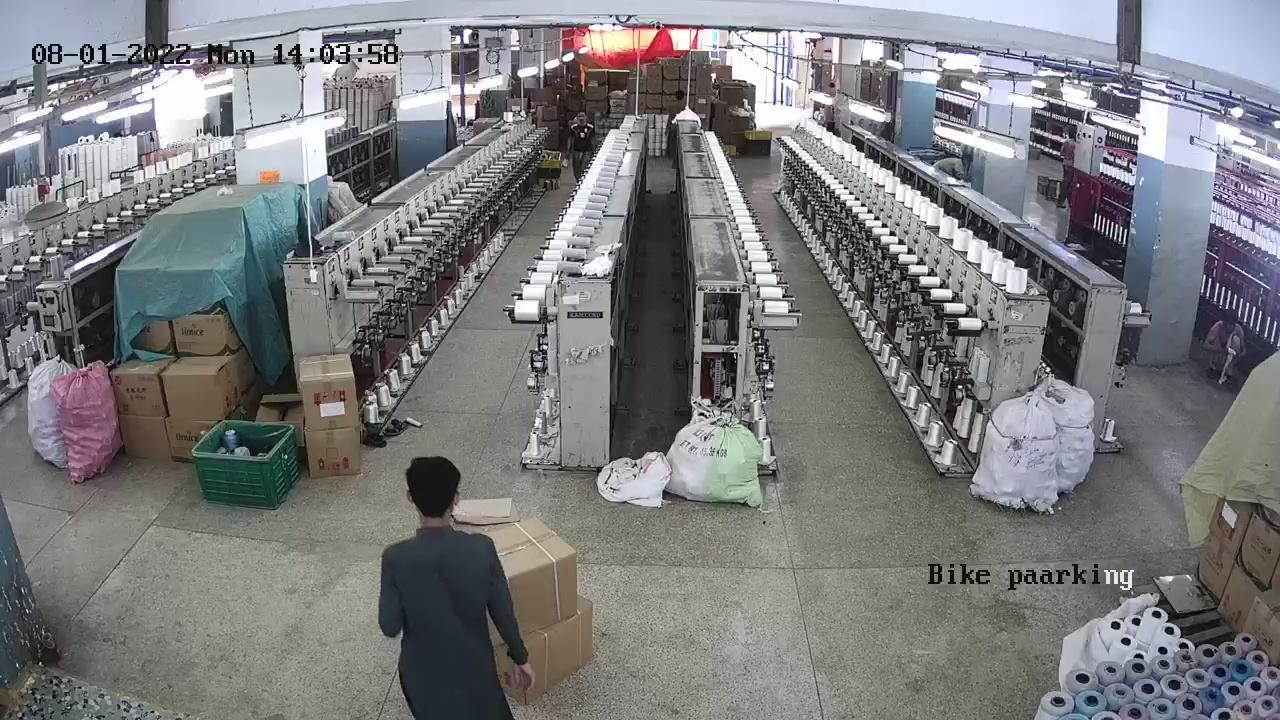person: (382, 448, 532, 720), (569, 108, 599, 185)
